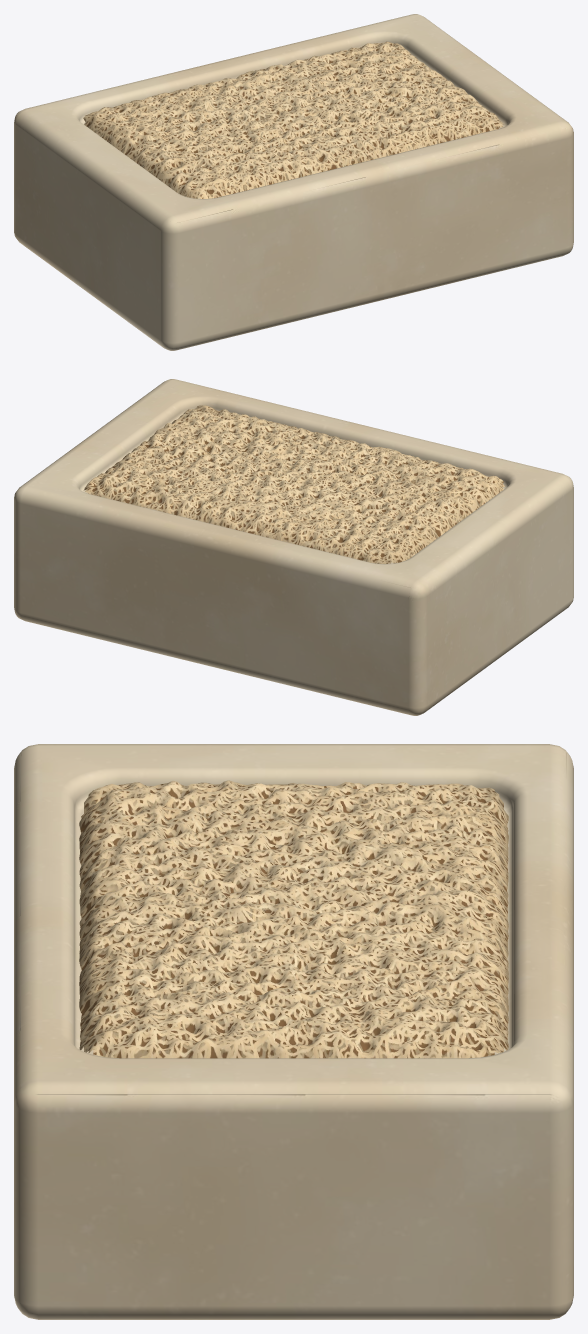
The model's file is nha-xo-muop-soap.glb.
The picture shows the model from 3 angles, top to bottom: view 1: azimuth 30°, elevation 25°; view 2: azimuth 150°, elevation 25°; view 3: azimuth 270°, elevation 25°; orthographic projection. The views are drawn at different scales.
Parts seen in each view (by area): view 1: Soap_Body, Soap_Loofah; view 2: Soap_Body, Soap_Loofah; view 3: Soap_Body, Soap_Loofah.
Boxes of the visible parts, box(x1,y1,x2,y2) form: Soap_Body: box(14, 14, 573, 350); Soap_Loofah: box(83, 41, 503, 198); Soap_Body: box(14, 379, 573, 715); Soap_Loofah: box(83, 405, 504, 563); Soap_Body: box(14, 744, 573, 1319); Soap_Loofah: box(79, 780, 508, 1058).
Size of the model in its own units: 0.09 by 0.0297 by 0.06.
Materials: 2 (2 with a texture image).
